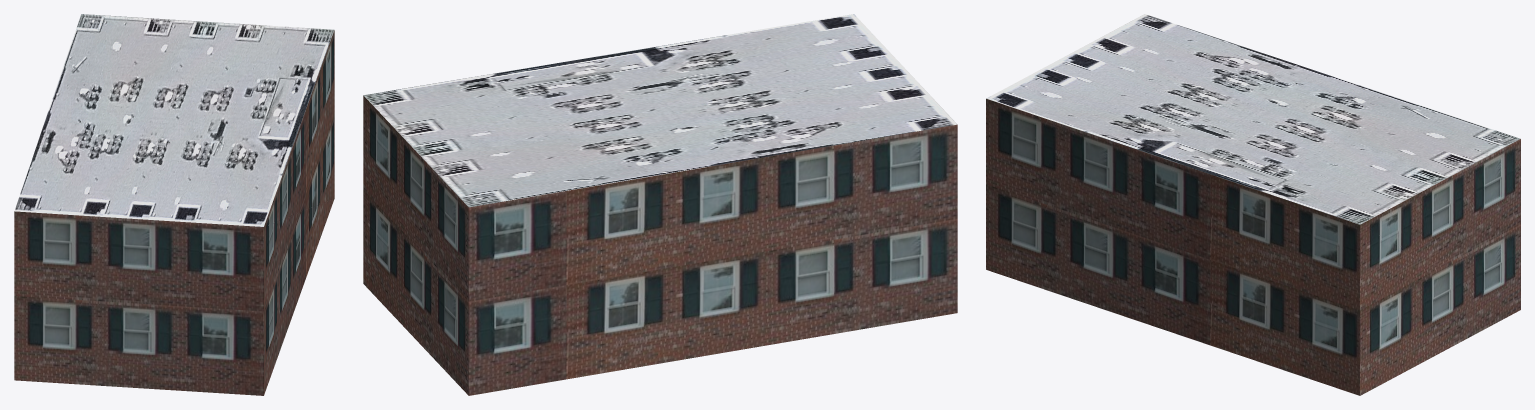
Rendered from ResTex__1152.fbx.
3 views of the same model, side by side, from view 1: azimuth 30°, elevation 25°; view 2: azimuth 150°, elevation 25°; view 3: azimuth 270°, elevation 25° (orthographic). The views are drawn at different scales.
Parts seen in each view (by area): view 1: CityEngineMaterial_14_m, CityEngineMaterial_4_m; view 2: CityEngineMaterial_14_m, CityEngineMaterial_4_m; view 3: CityEngineMaterial_14_m, CityEngineMaterial_4_m.
Part boxes in pixels (x1=…): CityEngineMaterial_14_m: x1=14, y1=30, x2=334, y2=395; CityEngineMaterial_4_m: x1=14, y1=14, x2=334, y2=226; CityEngineMaterial_14_m: x1=363, y1=95, x2=957, y2=395; CityEngineMaterial_4_m: x1=363, y1=14, x2=957, y2=207; CityEngineMaterial_14_m: x1=986, y1=98, x2=1520, y2=395; CityEngineMaterial_4_m: x1=986, y1=14, x2=1520, y2=224.
Size of the model in its own units: 15.85 by 6 by 16.99.
Materials: 2 (2 with a texture image).
